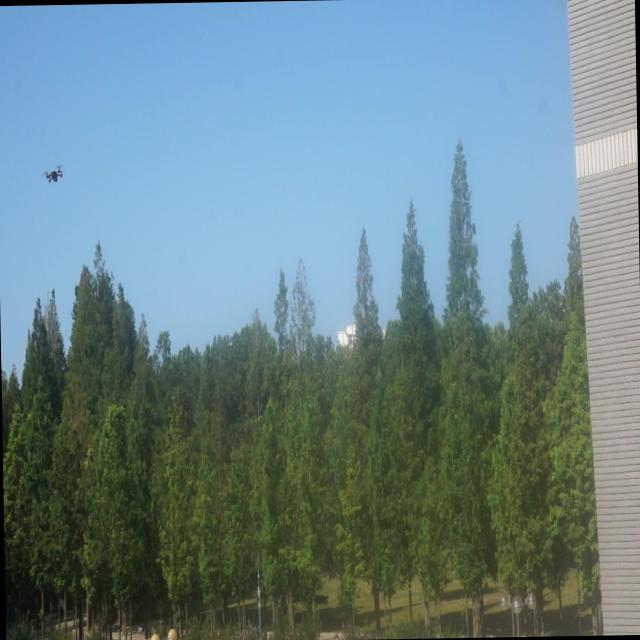drone: (42, 160, 66, 188)
